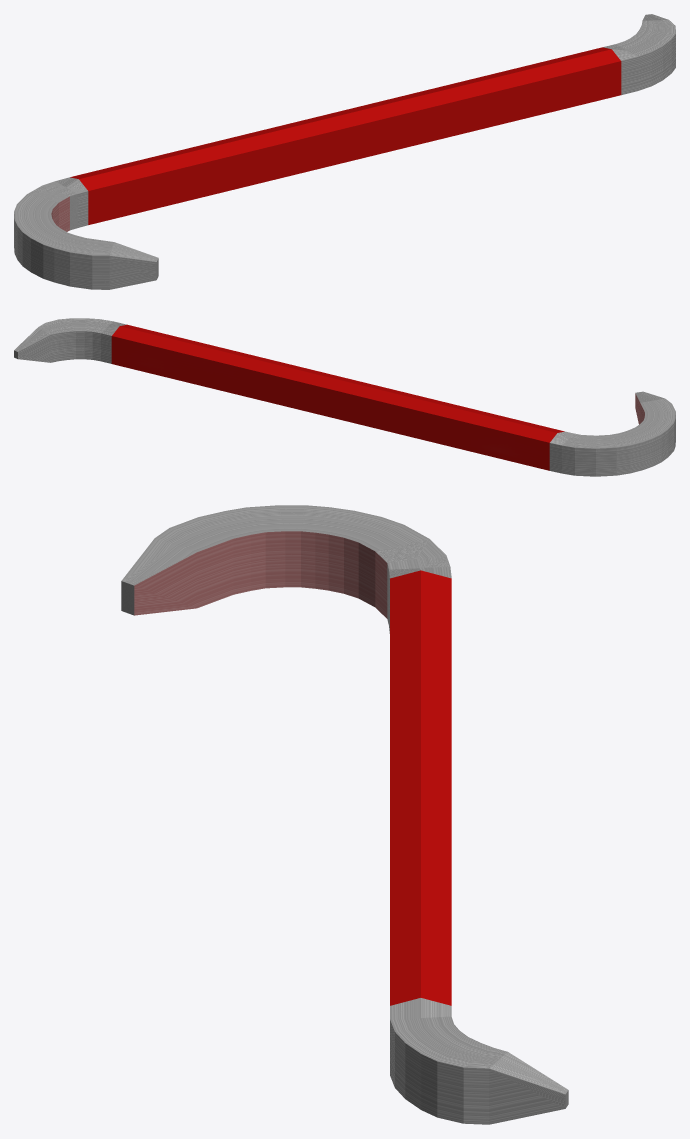
The model's file is Crowbar.fbx.
The picture shows the model from 3 angles, top to bottom: view 1: azimuth 30°, elevation 25°; view 2: azimuth 150°, elevation 25°; view 3: azimuth 270°, elevation 25°; orthographic projection. The views are drawn at different scales.
Parts seen in each view (by area): view 1: Crowbar; view 2: Crowbar; view 3: Crowbar.
Part boxes in pixels (box(x1,y1,x2,y2)): Crowbar: box(14, 14, 675, 289); Crowbar: box(14, 318, 675, 476); Crowbar: box(121, 505, 568, 1124).
Size of the model in its own units: 4345 by 258 by 1445.
Materials: 1 (1 with a texture image).
